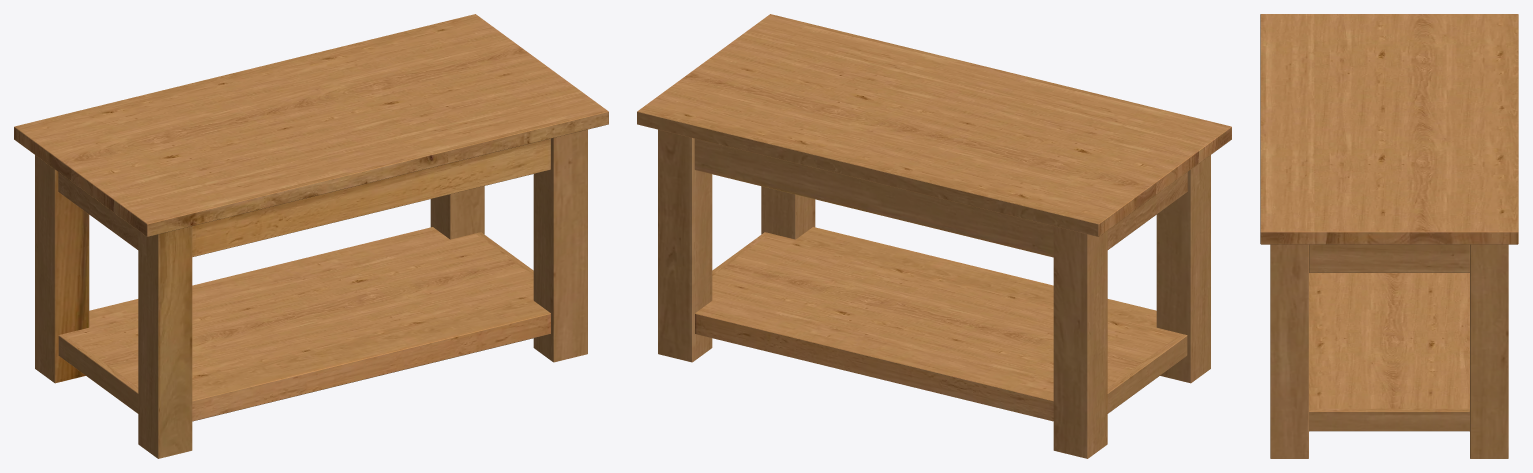
Rendered from B01LWVEZ1C-mobile.glb.
The picture shows the model from 3 angles, left to right: view 1: azimuth 30°, elevation 25°; view 2: azimuth 150°, elevation 25°; view 3: azimuth 270°, elevation 25°; orthographic projection. The views are drawn at different scales.
Visible parts, largest first — view 1: B01LWVEZ1C; view 2: B01LWVEZ1C; view 3: B01LWVEZ1C.
Part boxes in pixels (box(x1,y1,x2,y2)): B01LWVEZ1C: box(14, 14, 608, 458); B01LWVEZ1C: box(637, 14, 1231, 458); B01LWVEZ1C: box(1260, 14, 1518, 458).
Size of the model in its own units: 0.8992 by 0.4516 by 0.4496.
1 material, 1 textured.
